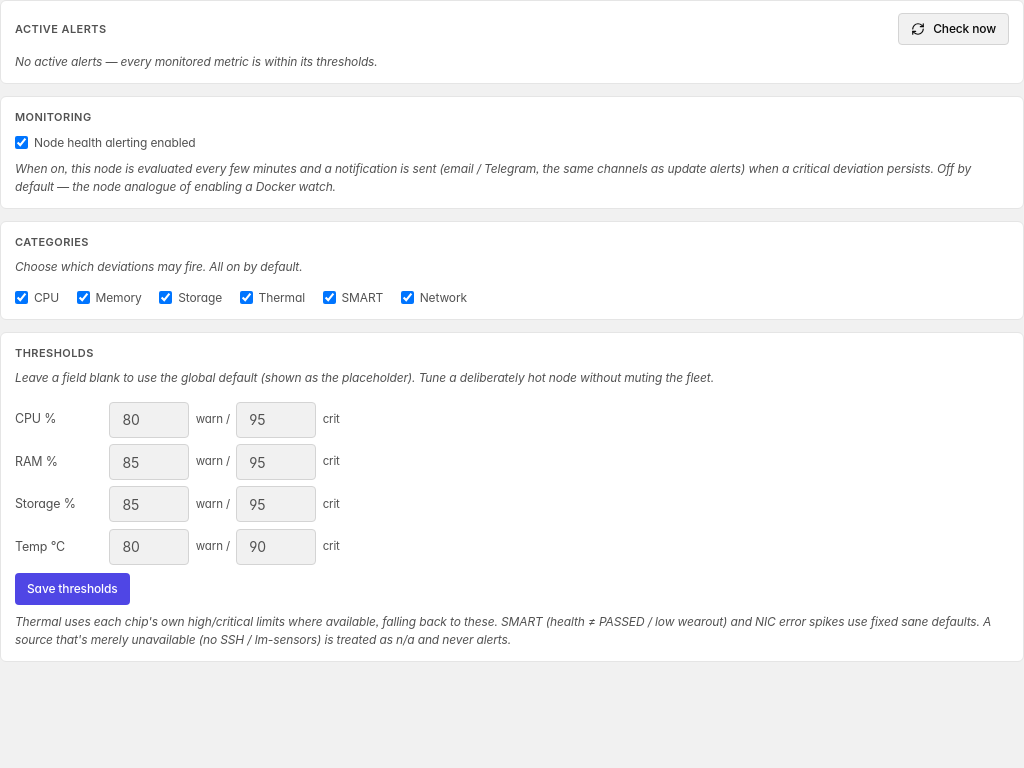
Test: NodeAlertsTab — threshold validation › blocks save when a percentage is out of range
In the number field named "CPU % warn": (149, 420) [109,402,189,438], type "150"
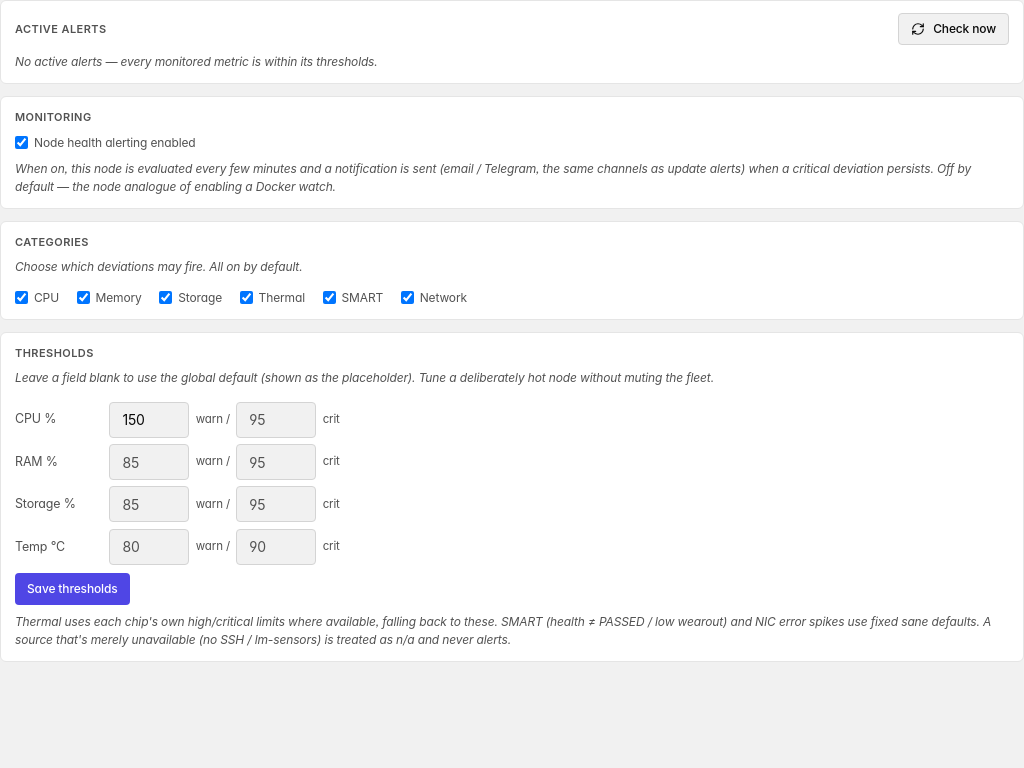
Click the button "Save thresholds": click(72, 589) [15,573,130,605]
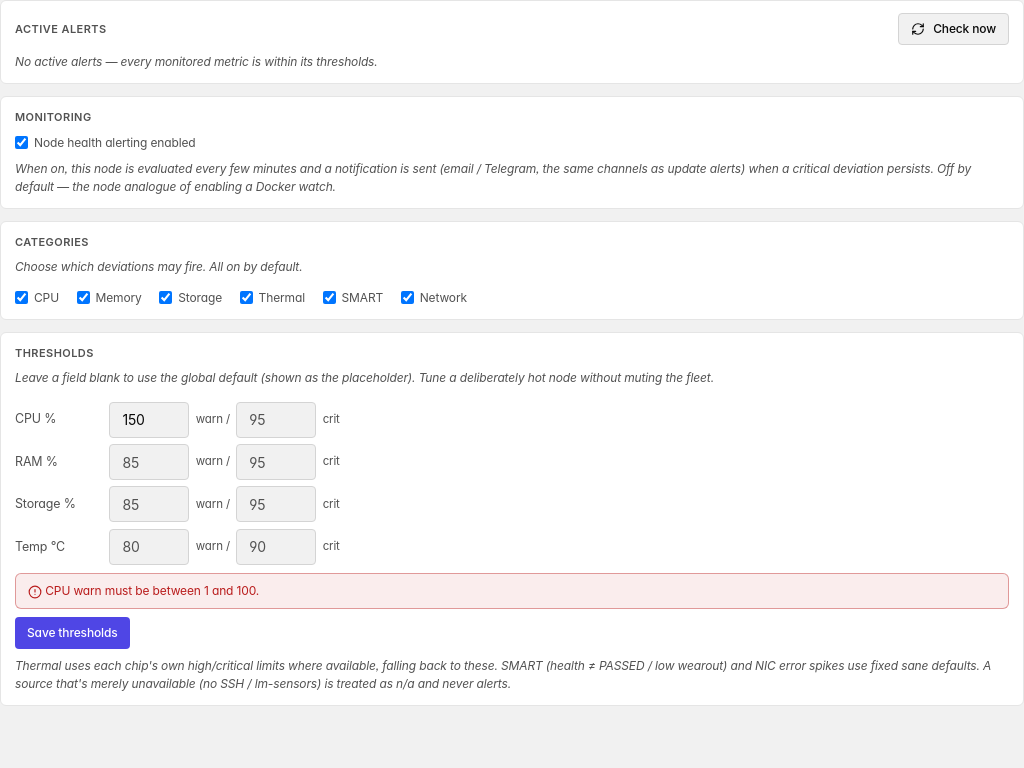
Expected: the text "CPU warn must be between 1 and 100." is shown, [15,573,1009,609]
